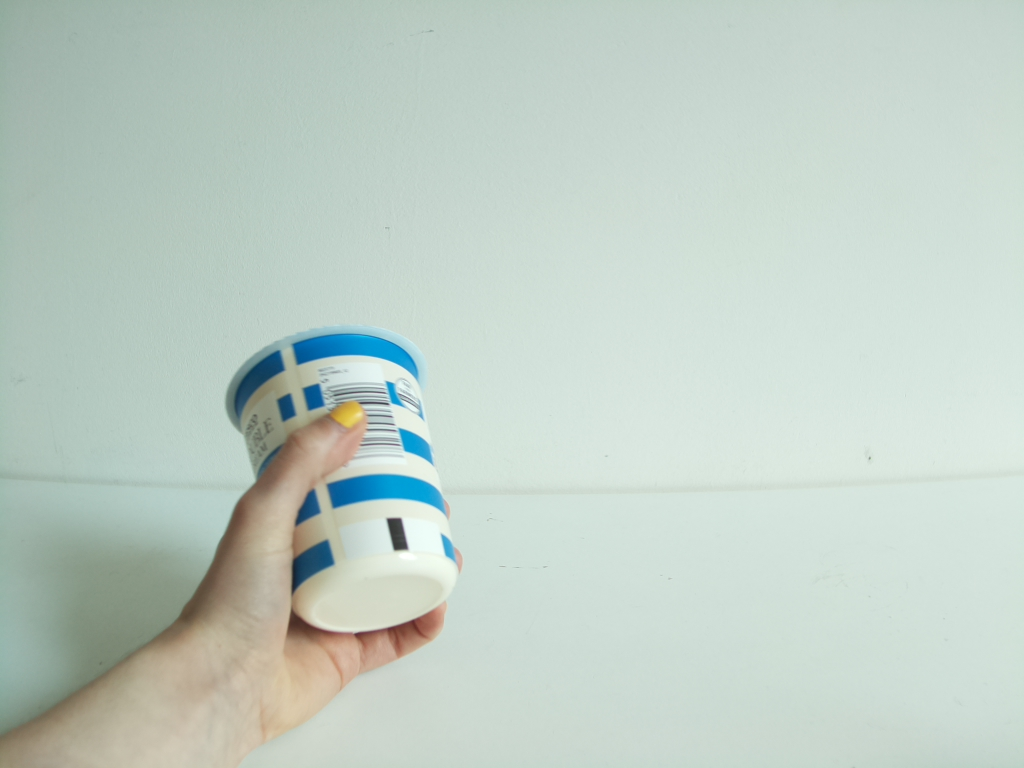cream: (222, 321, 463, 635)
